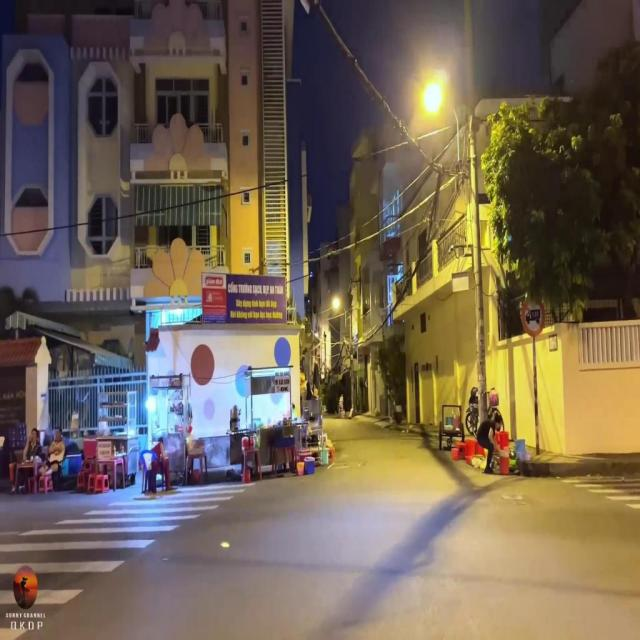cam_o_to_tai: (521, 294, 546, 338)
